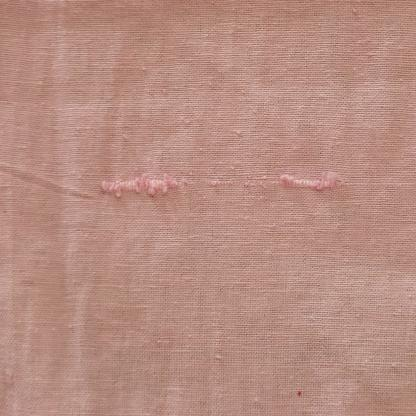spot: (290, 384, 322, 408)
